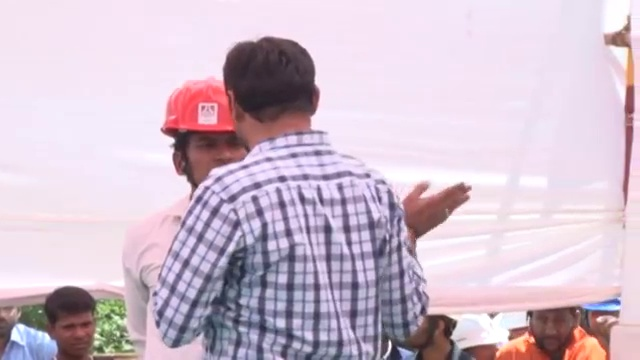helmet: (160, 76, 240, 140), (449, 312, 513, 351), (578, 299, 622, 315)
helmet_off: (222, 44, 322, 134), (44, 290, 97, 360), (408, 310, 462, 360), (530, 306, 581, 347), (0, 302, 22, 337), (610, 19, 637, 42)
helmet_on: (163, 77, 251, 200), (448, 312, 514, 360), (580, 298, 623, 338)
person: (155, 42, 431, 360), (120, 79, 249, 358), (496, 305, 606, 360), (0, 299, 57, 360)
